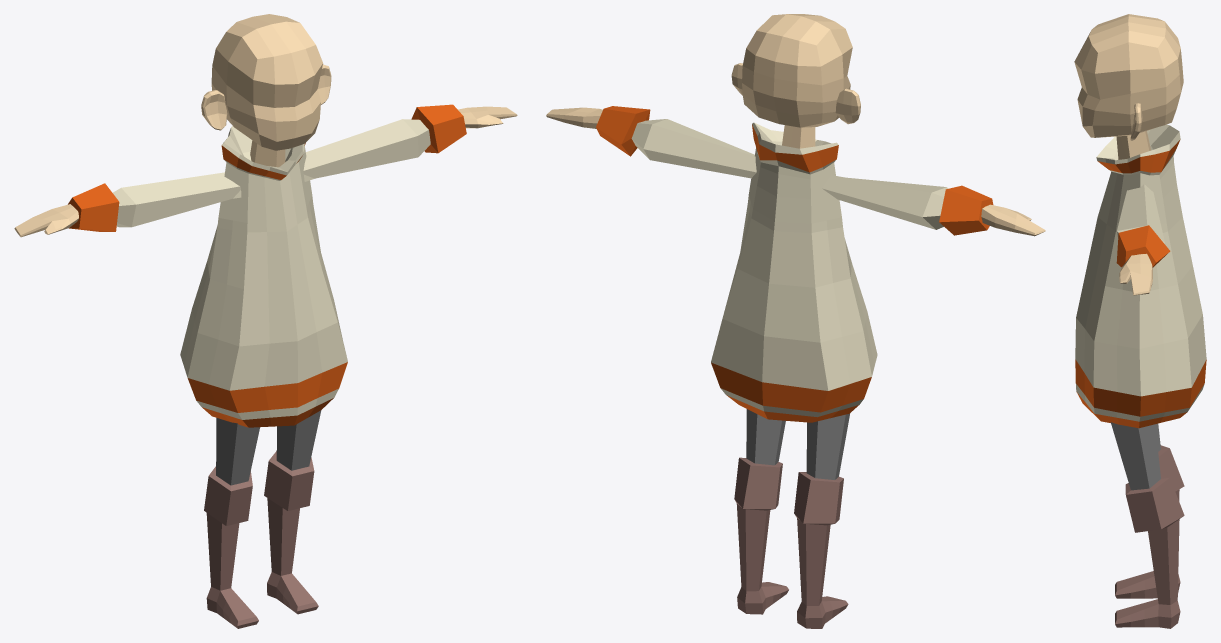
File: Placeholder_guy.glb
3 views of the same model, side by side, from view 1: azimuth 30°, elevation 25°; view 2: azimuth 150°, elevation 25°; view 3: azimuth 270°, elevation 25° (orthographic).
Visible parts, largest first — view 1: BODY; view 2: BODY; view 3: BODY.
Part boxes in pixels (bbox=[...]): BODY: bbox=[14, 14, 517, 628]; BODY: bbox=[546, 14, 1045, 628]; BODY: bbox=[1074, 14, 1206, 628].
Size of the model in its own units: 3.31 by 3.76 by 0.7691.
